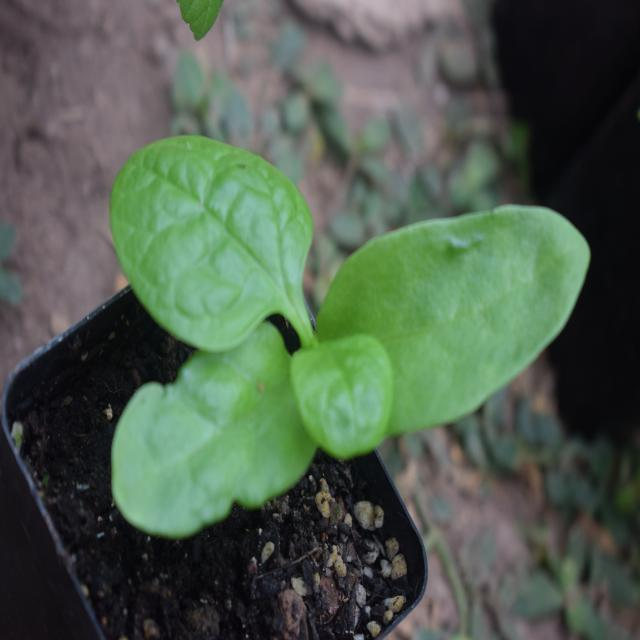Ceylon spinach: (127, 96, 556, 509)
